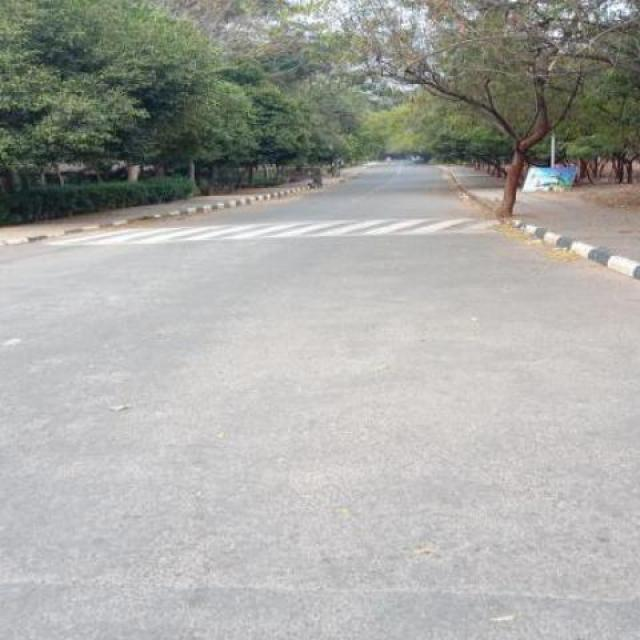Speed Bump: (53, 216, 524, 242)
